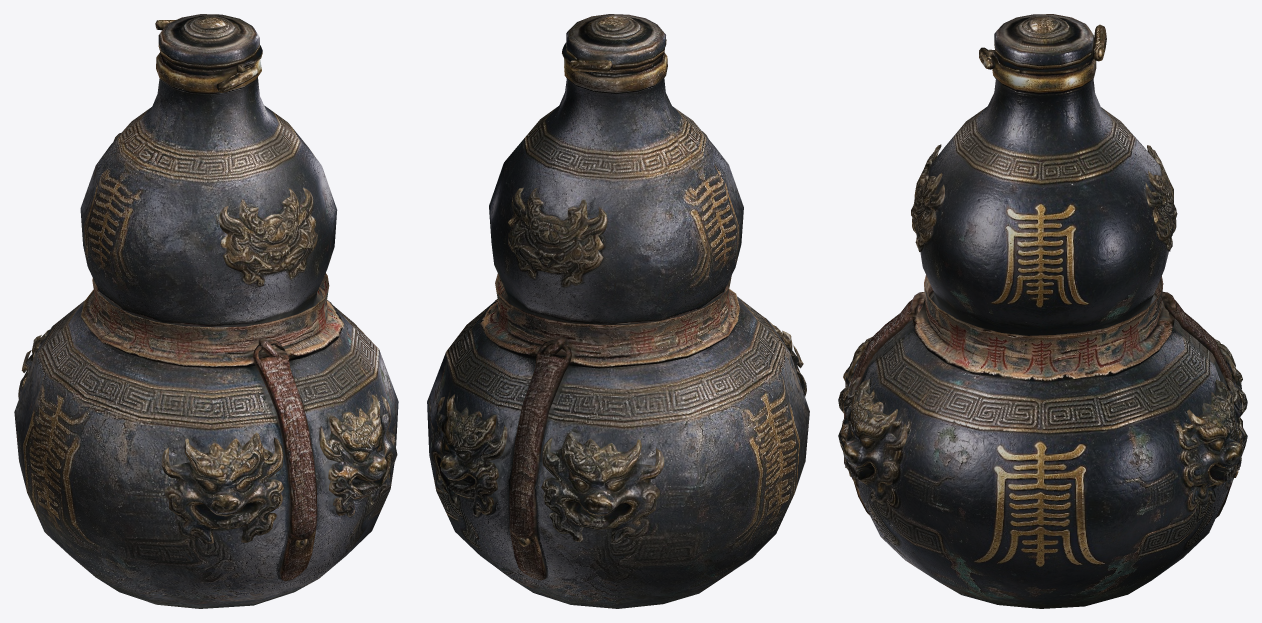
File: 镇妖葫.fbx
3 views of the same model, side by side, from view 1: azimuth 30°, elevation 25°; view 2: azimuth 150°, elevation 25°; view 3: azimuth 270°, elevation 25° (orthographic).
Parts seen in each view (by area): view 1: tripo_node_39d93aca; view 2: tripo_node_39d93aca; view 3: tripo_node_39d93aca.
Boxes of the visible parts, <box> form: tripo_node_39d93aca: <box>14,14,398,608</box>; tripo_node_39d93aca: <box>427,14,809,608</box>; tripo_node_39d93aca: <box>838,14,1247,608</box>.
Size of the model in its own units: 0.6348 by 0.998 by 0.6816.
